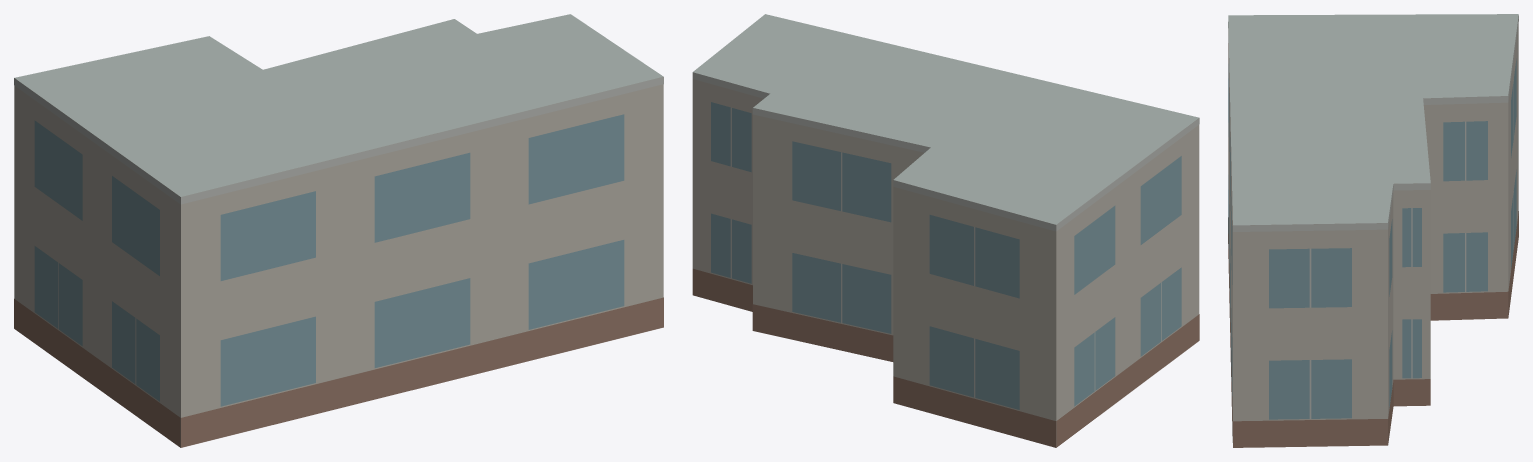
The model's file is survey-upis-33046419.glb.
3 renders of one model, left to right at view 1: azimuth 30°, elevation 25°; view 2: azimuth 150°, elevation 25°; view 3: azimuth 270°, elevation 25°, orthographic. The views are drawn at different scales.
Parts seen in each view (by area): view 1: survey-upis-33046419.tmp; view 2: survey-upis-33046419.tmp; view 3: survey-upis-33046419.tmp.
Part boxes in pixels (bbox=[...]): survey-upis-33046419.tmp: bbox=[14, 14, 663, 447]; survey-upis-33046419.tmp: bbox=[692, 14, 1199, 447]; survey-upis-33046419.tmp: bbox=[1228, 14, 1518, 447].
Size of the model in its own units: 16.51 by 8.1 by 9.6.
